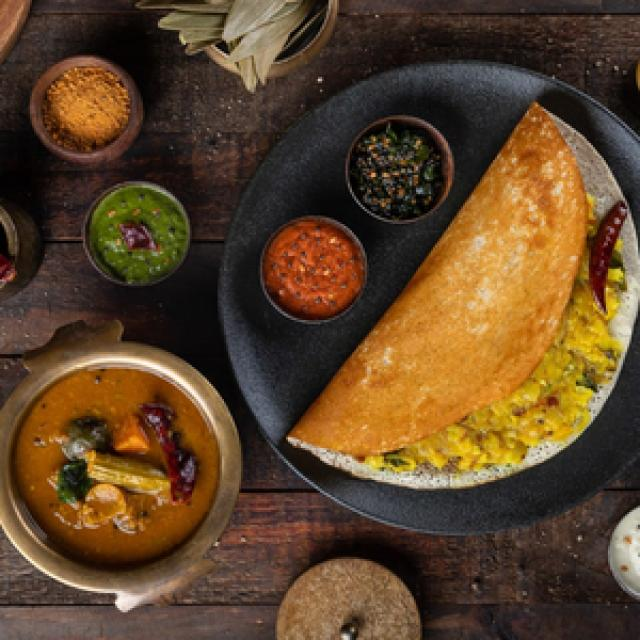dosa: (273, 91, 640, 501)
